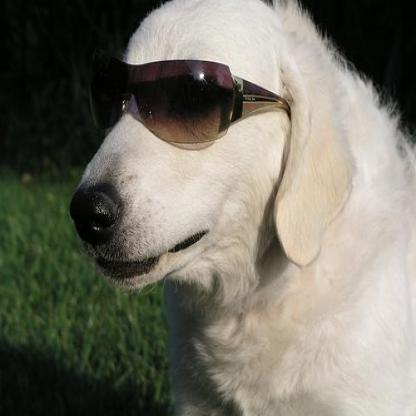kuvasz: (66, 0, 414, 414)
